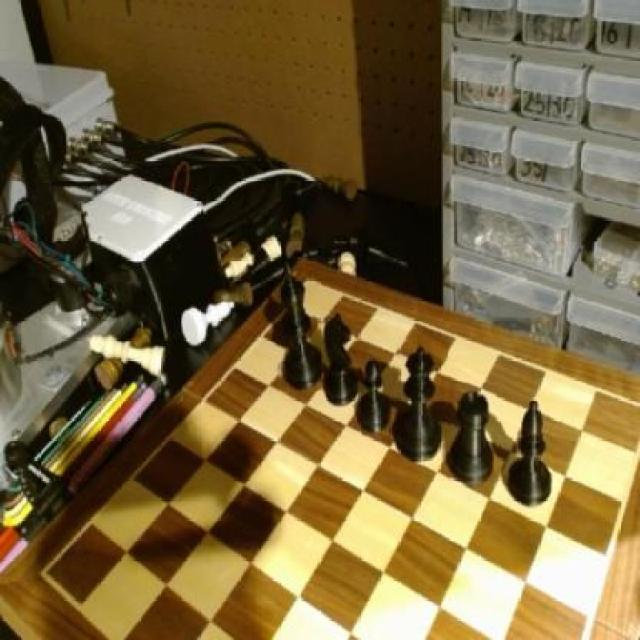bishop: (506, 397, 553, 507)
black-bishop: (274, 257, 322, 393)
black-king: (323, 312, 360, 408)
black-knight: (358, 355, 394, 437)
black-pawn: (395, 340, 448, 467)
black-queen: (451, 384, 496, 488)
